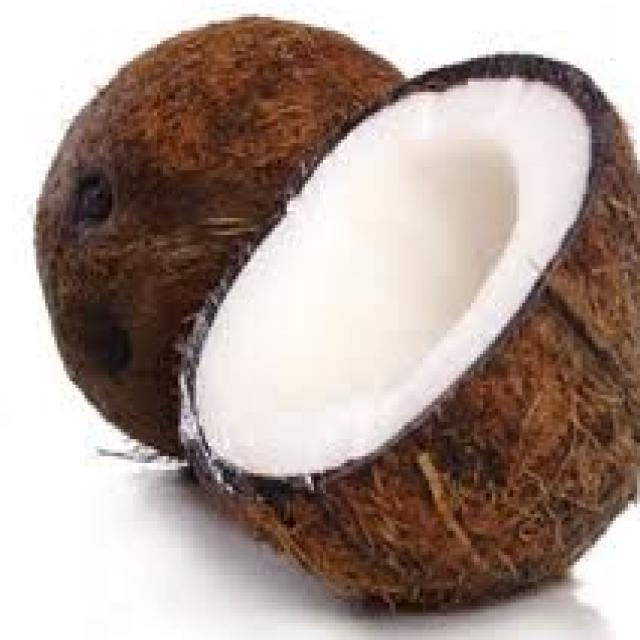coconut: (24, 7, 640, 623)
